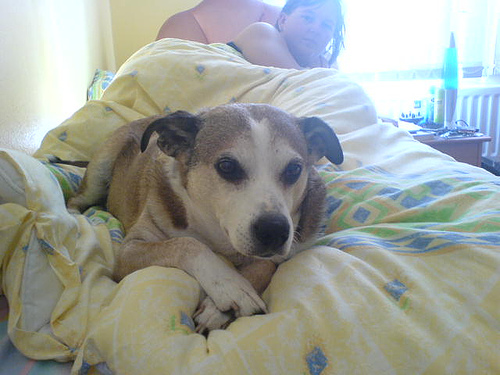without_mask: (277, 1, 345, 64)
